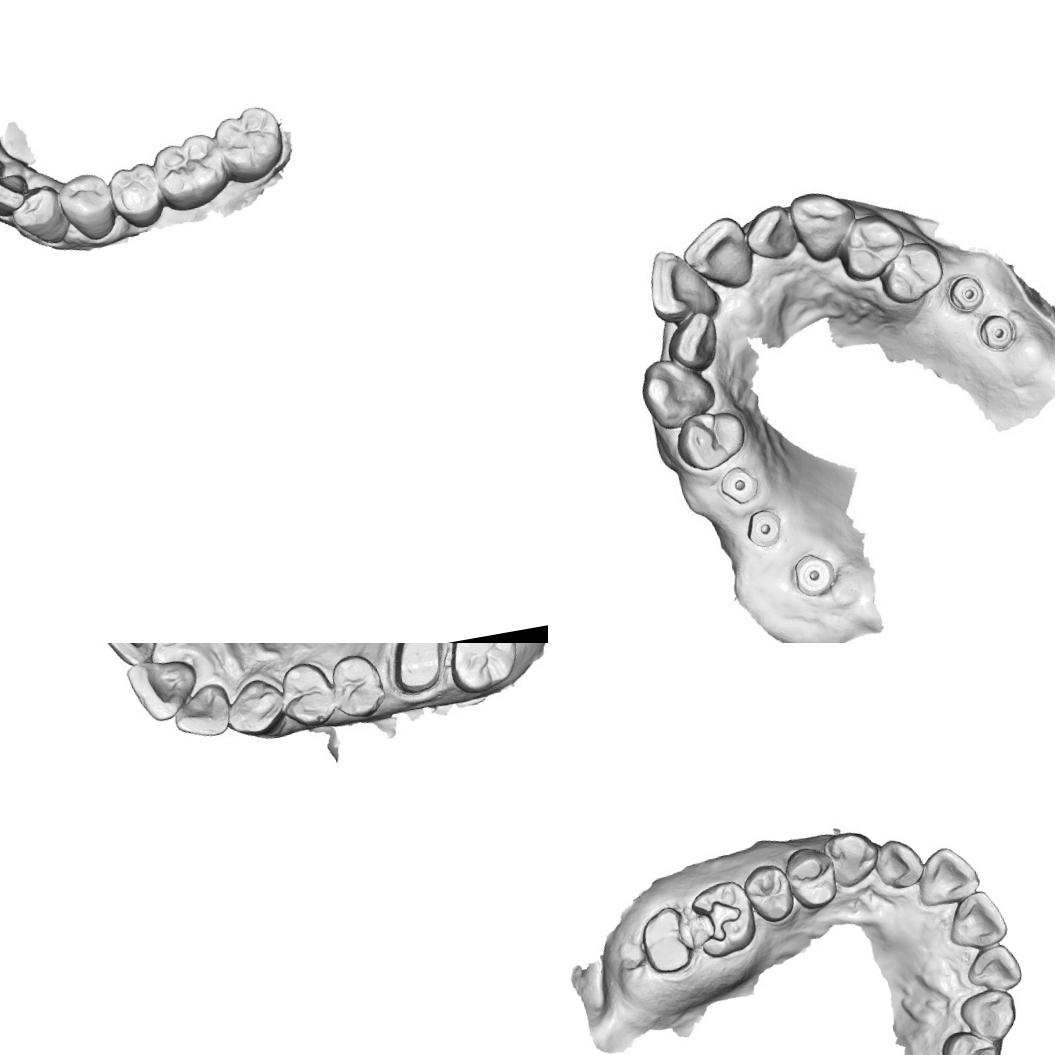canine: (634, 350, 724, 430), (787, 188, 857, 266), (218, 673, 286, 741), (6, 181, 73, 250), (954, 984, 1022, 1048), (820, 824, 882, 892)
crown: (632, 900, 698, 978), (379, 643, 454, 698)
implant: (788, 546, 836, 596), (743, 504, 787, 550), (976, 312, 1018, 353), (946, 272, 984, 316), (721, 465, 757, 507)
incisor: (644, 242, 722, 324), (122, 654, 202, 726), (682, 215, 758, 290), (908, 839, 984, 912), (940, 884, 1012, 954), (167, 677, 236, 742), (960, 940, 1026, 1000), (667, 310, 723, 372), (870, 831, 927, 891), (744, 204, 800, 264), (0, 169, 32, 219)
inlay: (687, 893, 749, 950)
molar: (150, 128, 232, 215), (210, 100, 290, 188), (438, 643, 524, 695)
premolar: (834, 210, 908, 282), (672, 404, 749, 473), (54, 168, 120, 246), (276, 656, 338, 732), (105, 158, 167, 232), (780, 840, 842, 914), (325, 646, 386, 719), (878, 238, 945, 304), (738, 859, 795, 928), (937, 1023, 1005, 1055)
